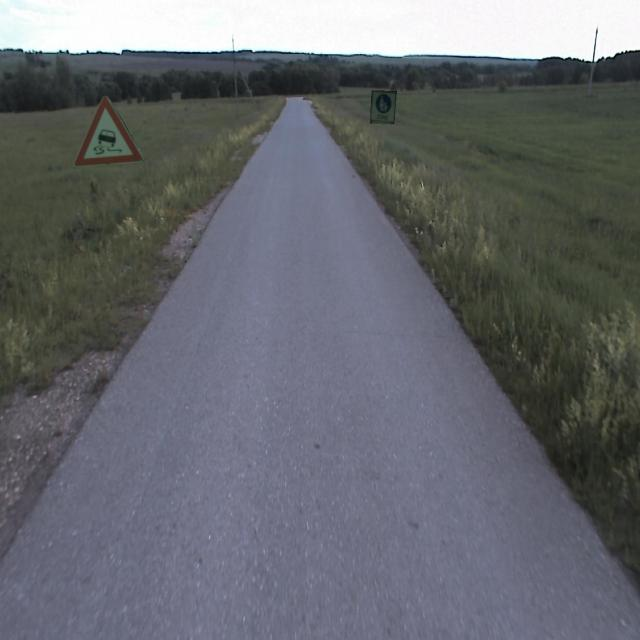road: (0, 98, 639, 639)
